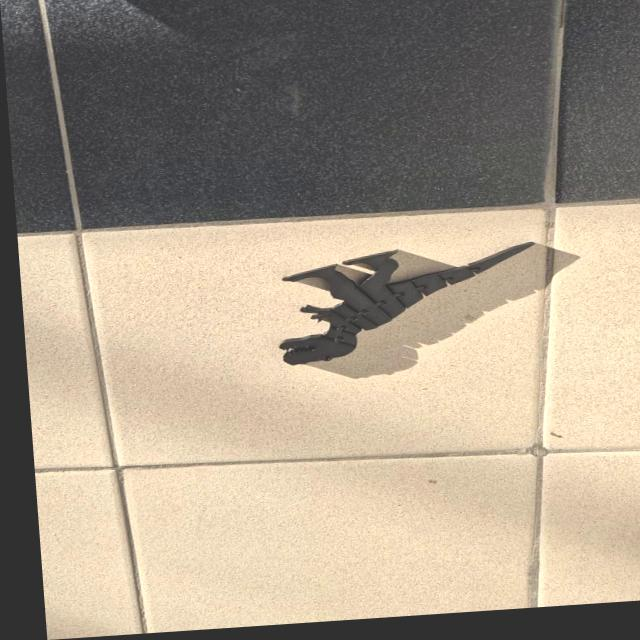dino: (271, 239, 544, 367)
